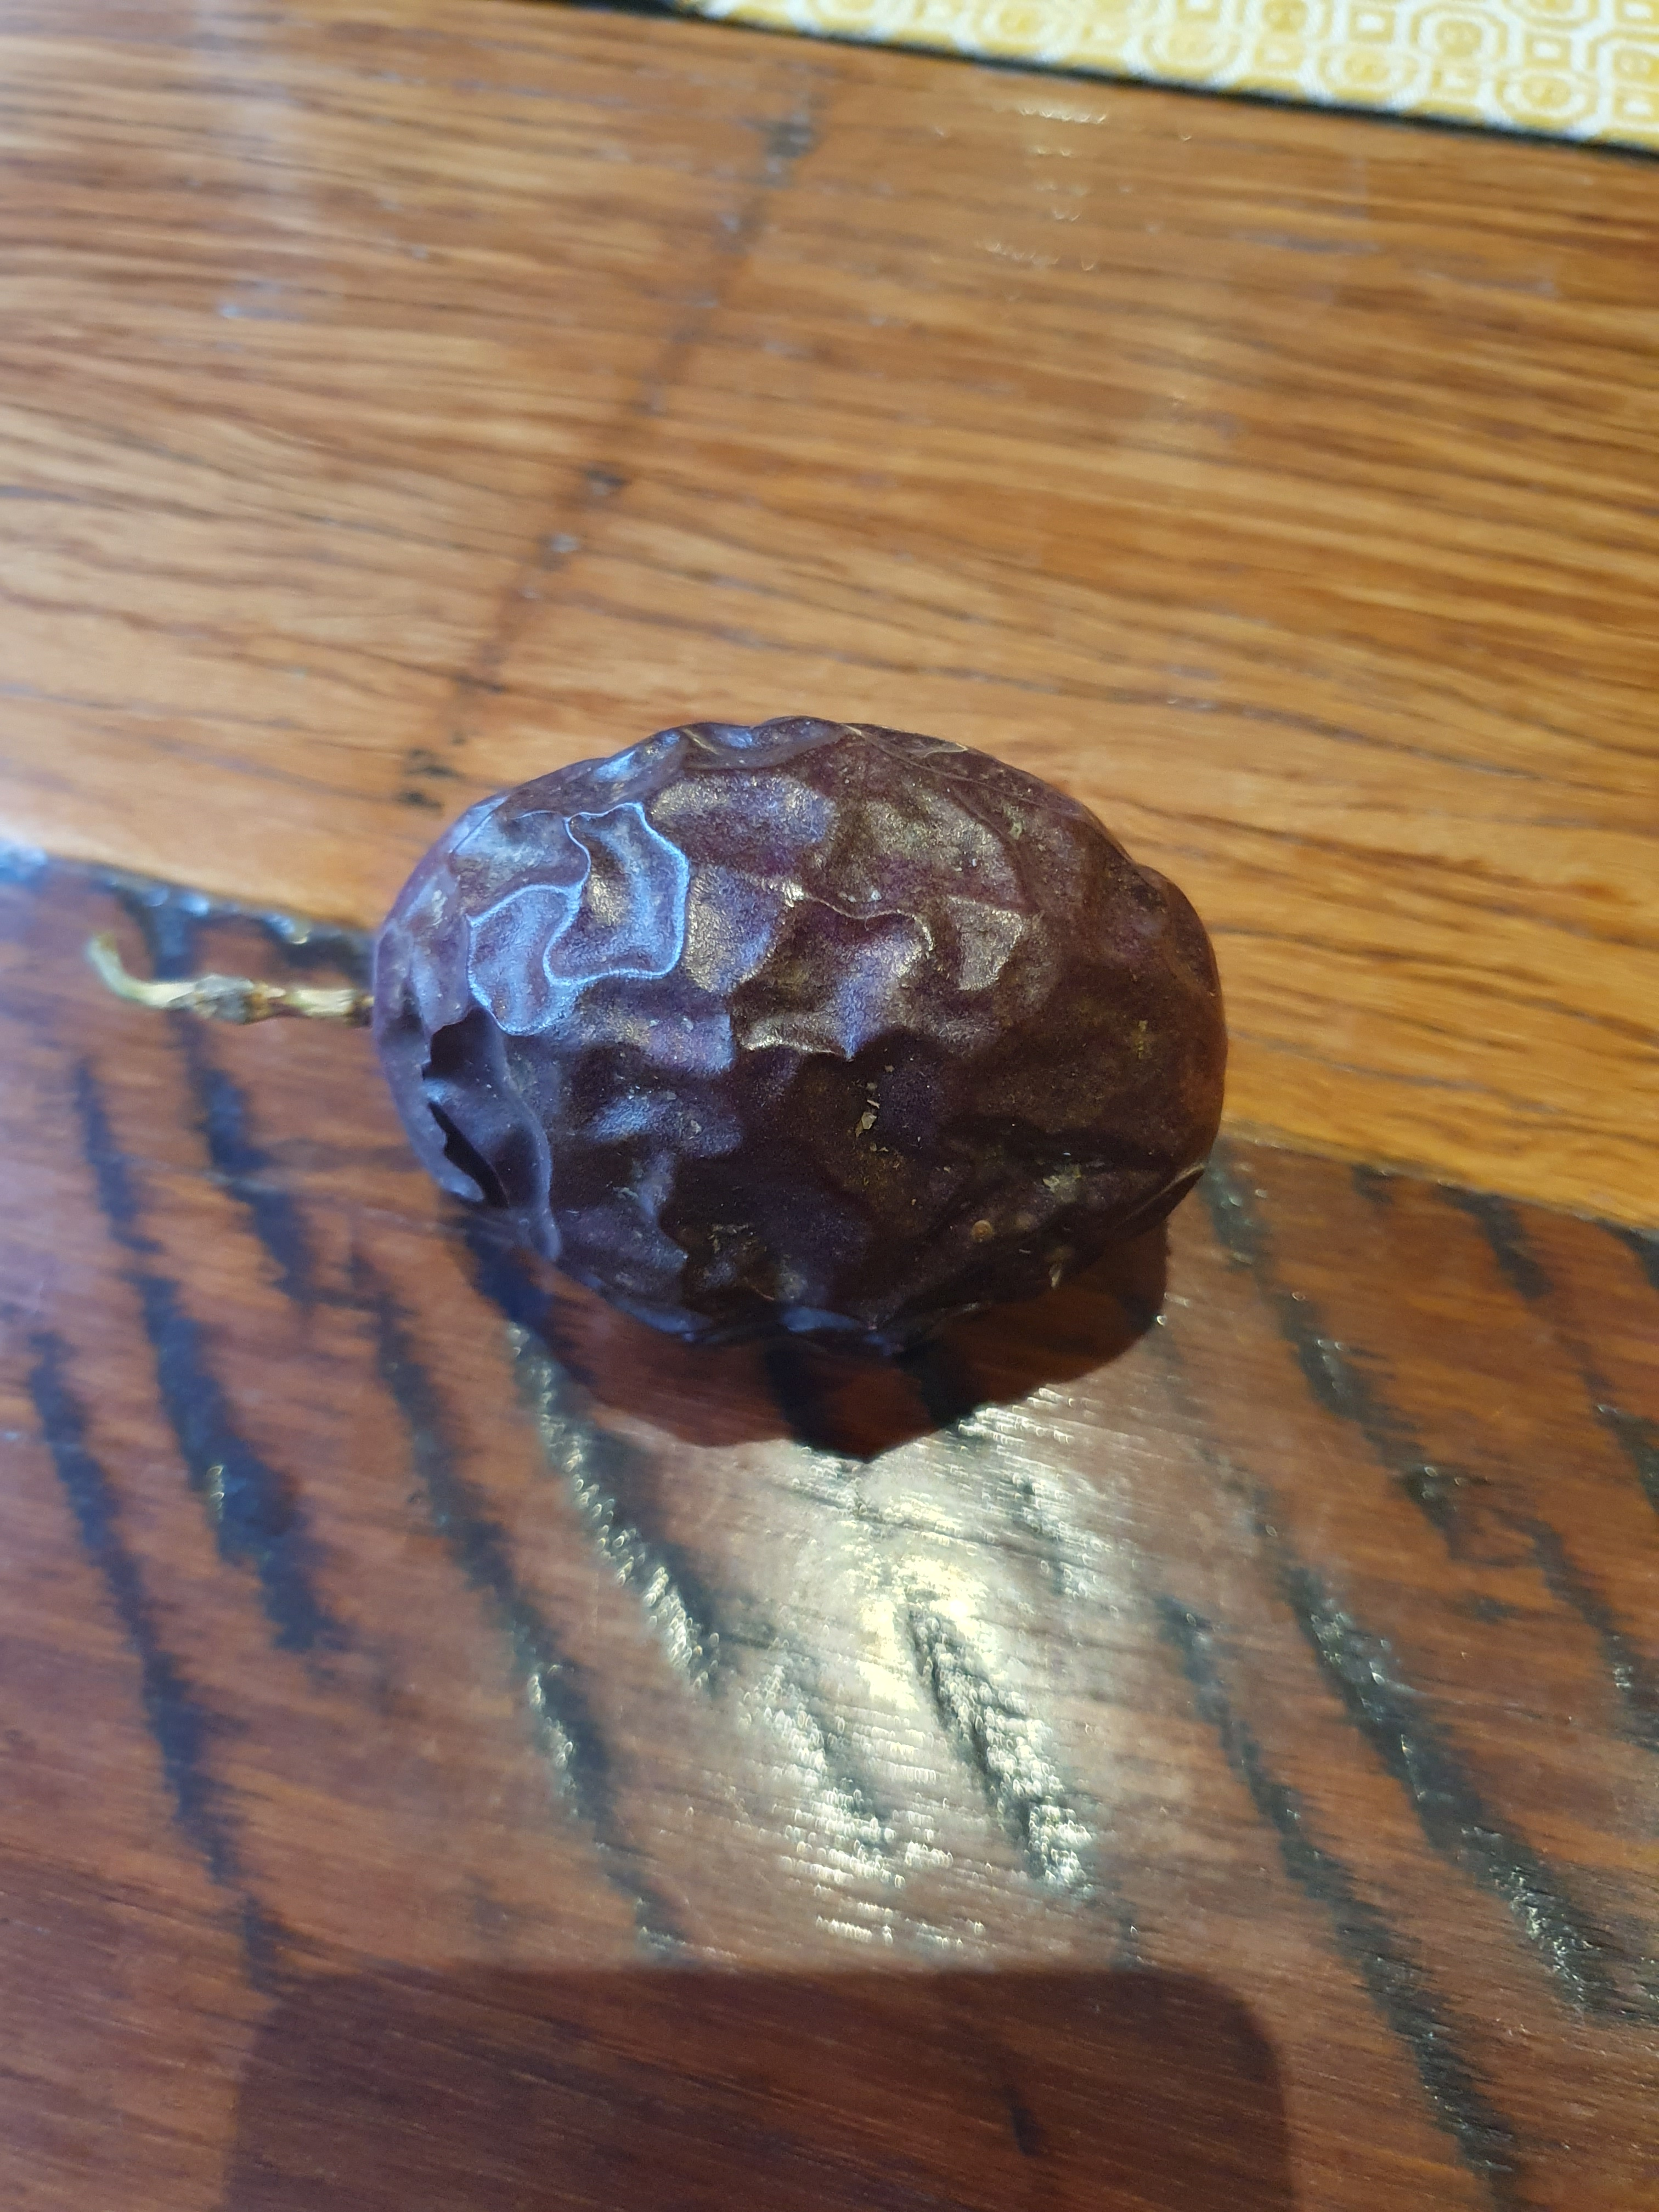passionfruit: (82, 672, 1244, 1395)
